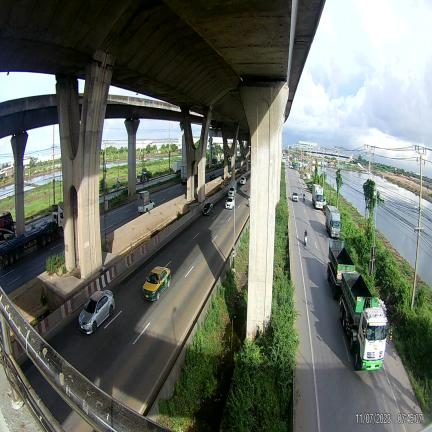car: (79, 290, 115, 334), (203, 202, 213, 215), (225, 196, 234, 209), (228, 186, 236, 196), (292, 192, 298, 202)
human: (304, 230, 307, 236), (303, 193, 305, 201), (249, 198, 250, 205)
motorbike: (304, 236, 307, 246), (303, 195, 305, 202)
taxi: (142, 267, 171, 300)
truck: (0, 220, 63, 268), (325, 205, 341, 238), (137, 191, 155, 214), (51, 205, 64, 234), (312, 184, 323, 208), (228, 180, 236, 196)
truck trailer: (340, 272, 391, 370), (327, 240, 355, 299)
